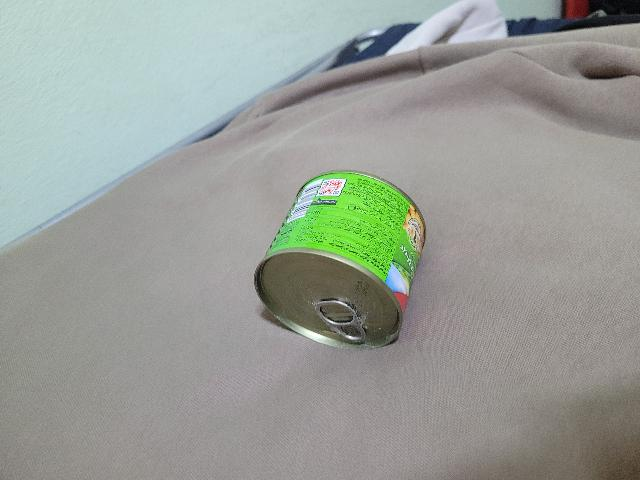Metal: (249, 169, 428, 354)
